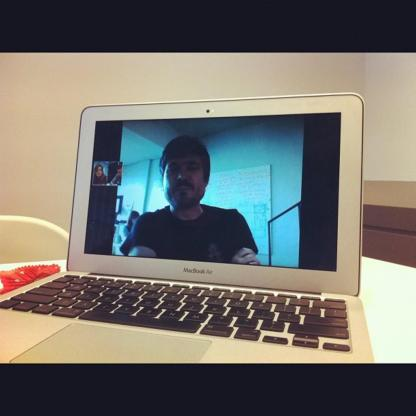board: (1, 92, 373, 364)
